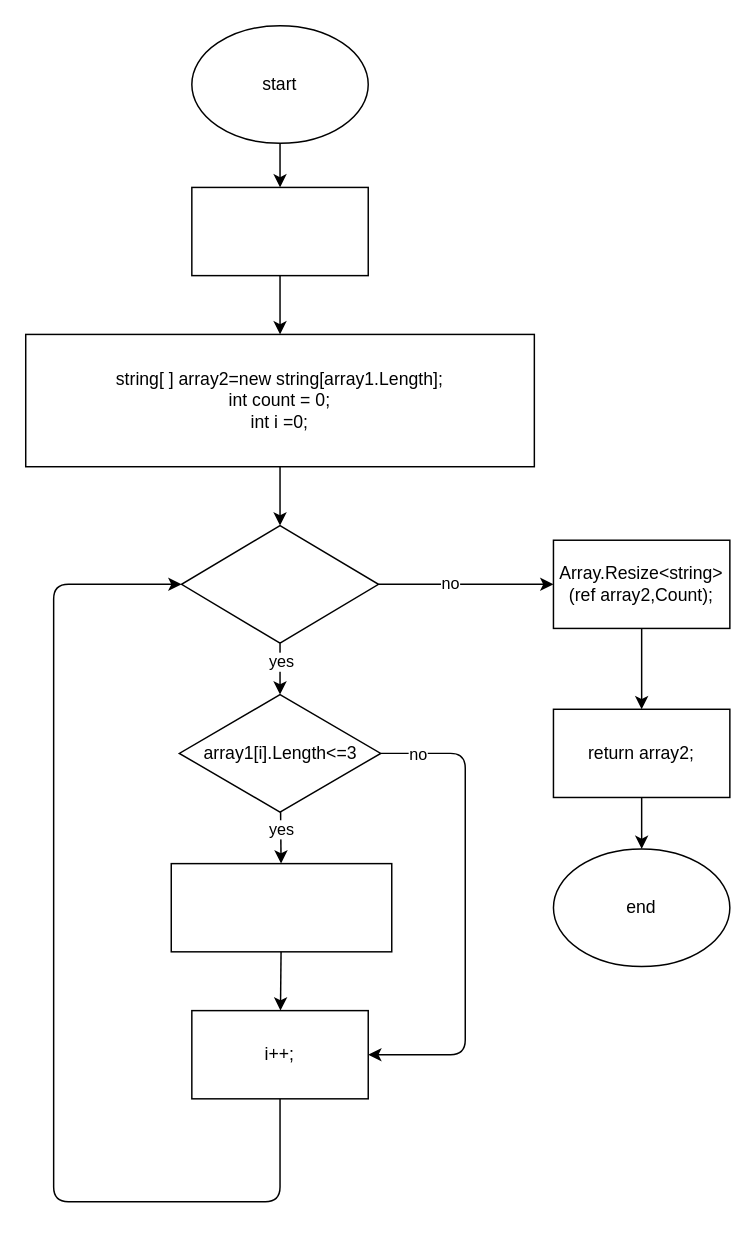
The diagram is 756 pixels wide and 1239 high, and some of its shapes have lost their labels. The shapes that lost their labels are listed below. From the top down, each one's centre as x and y in pixels, then its label:
At (x=279, y=231): "string[ ] array1".
At (x=279, y=583): "i<array1.Length".
At (x=281, y=907): "array2[count]=array1[i]; count++;".
